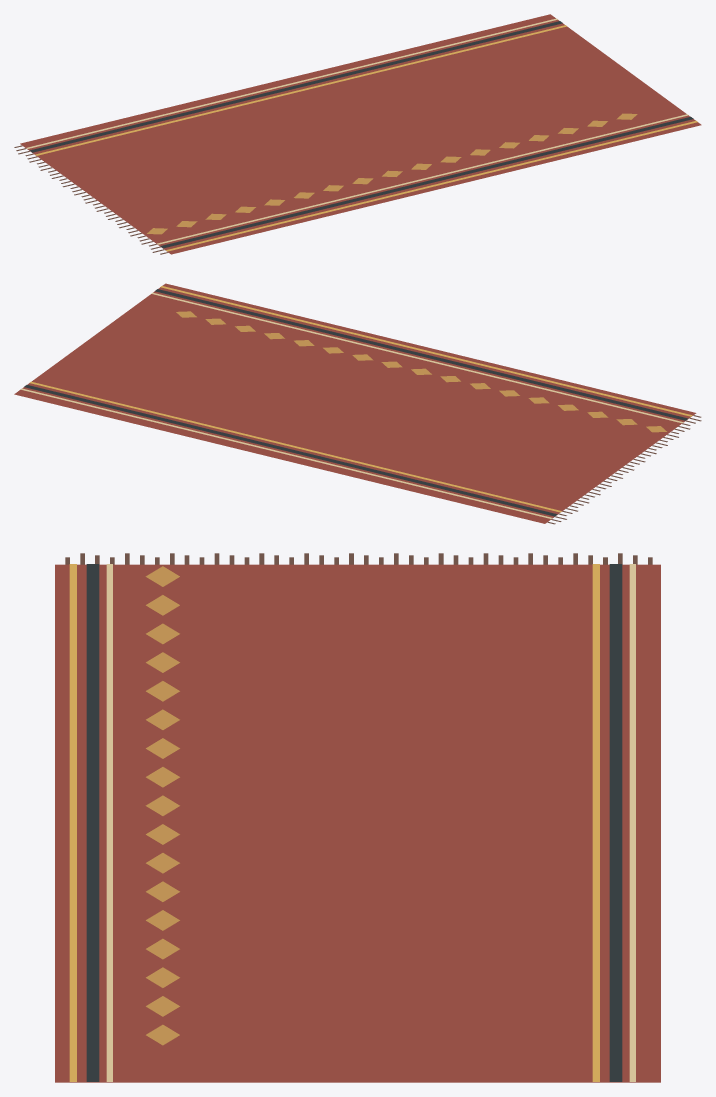
Rendered from ServiceMat.glb.
3 renders of one model, top to bottom at view 1: azimuth 30°, elevation 25°; view 2: azimuth 150°, elevation 25°; view 3: azimuth 270°, elevation 25°, orthographic. The views are drawn at different scales.
Visible parts, largest first — view 1: ServiceMat; view 2: ServiceMat; view 3: ServiceMat.
Part boxes in pixels (box(x1,y1,x2,y2)): ServiceMat: box(14, 14, 701, 254); ServiceMat: box(14, 283, 701, 524); ServiceMat: box(55, 553, 660, 1082).
Size of the model in its own units: 4.53 by 0.004 by 2.19.
